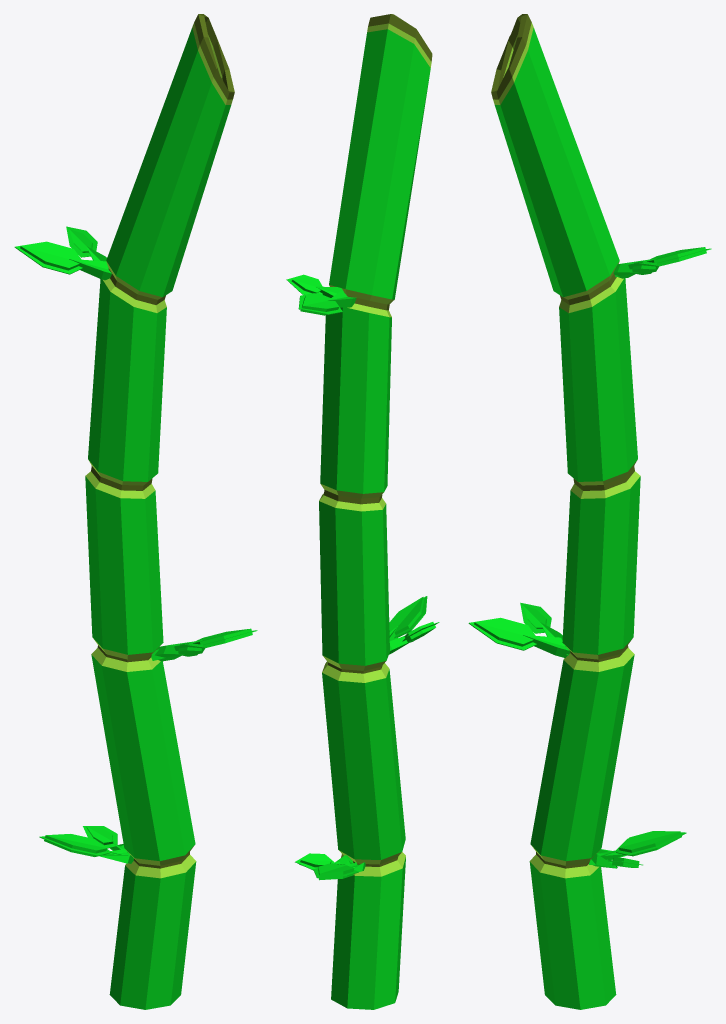
The model's file is Bamboo Small.fbx.
The picture shows the model from 3 angles, left to right: view 1: azimuth 90°, elevation 25°; view 2: azimuth 150°, elevation 25°; view 3: azimuth 270°, elevation 25°; orthographic projection.
Visible parts, largest first — view 1: BambooS; view 2: BambooS; view 3: BambooS.
Part boxes in pixels (left/top/right/bottom): BambooS: left=14, top=14, right=257, bottom=1009; BambooS: left=286, top=14, right=439, bottom=1009; BambooS: left=468, top=14, right=711, bottom=1009.
Bounding box in the file's own units: 15.05 × 163 × 36.69.
